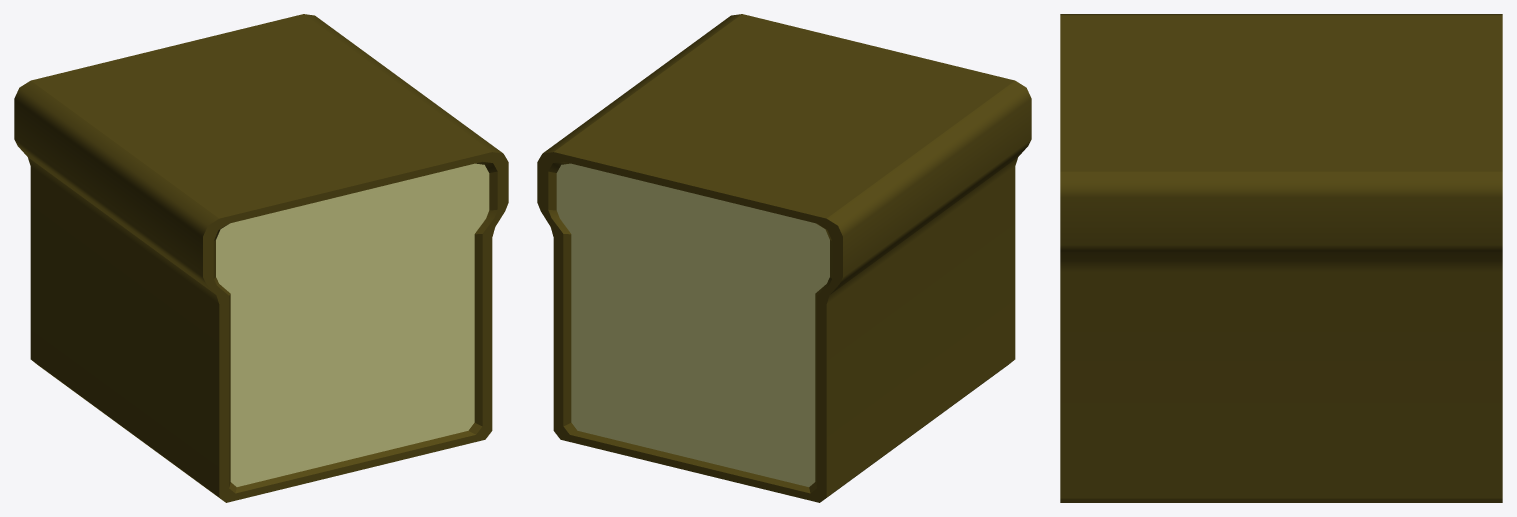
The model's file is bread.fbx.
3 views of the same model, side by side, from view 1: azimuth 30°, elevation 25°; view 2: azimuth 150°, elevation 25°; view 3: azimuth 270°, elevation 25° (orthographic). The views are drawn at different scales.
Visible parts, largest first — view 1: bread; view 2: bread; view 3: bread.
Part boxes in pixels (x1,y1,x2,y2): bread: (14, 14, 508, 502); bread: (537, 14, 1031, 502); bread: (1060, 14, 1502, 502).
Size of the model in its own units: 3.75 by 3.35 by 4.
